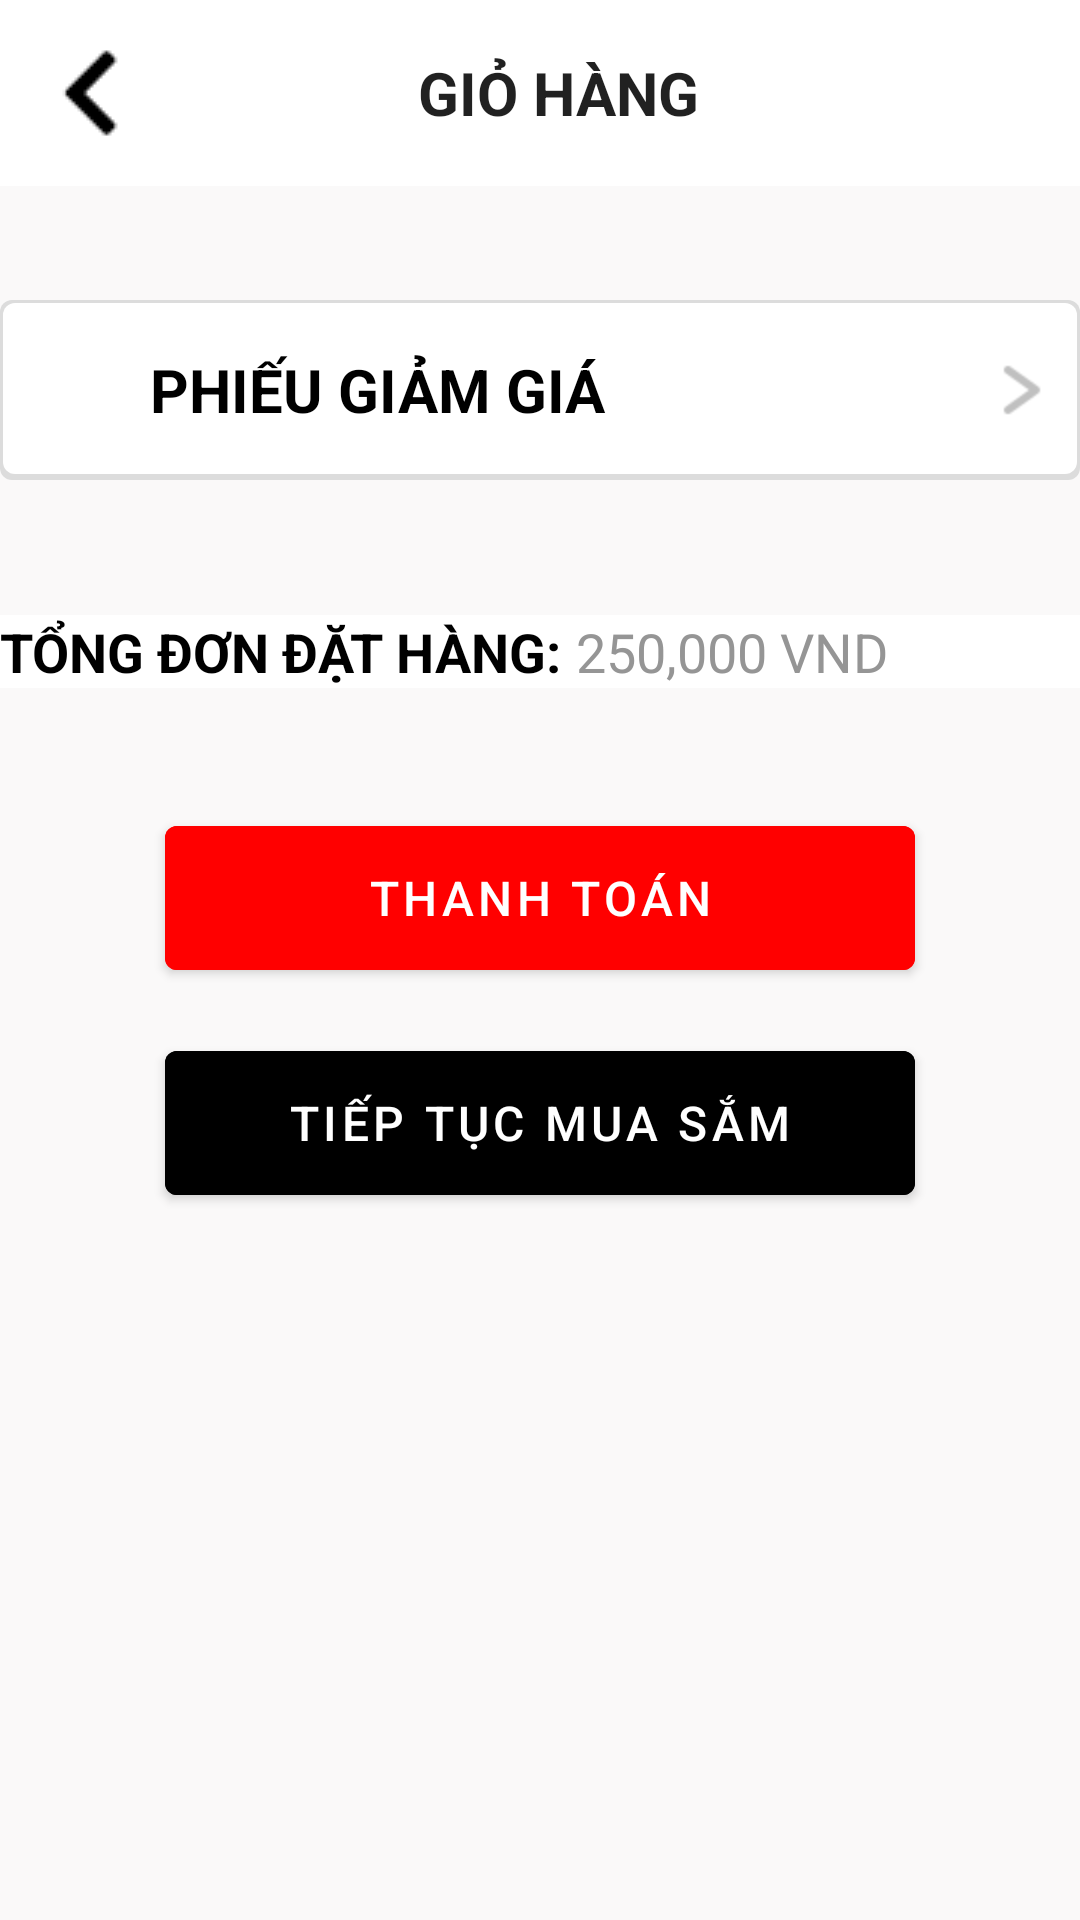

Icons on this 1080 x 1920 Android screen, each with its box as box=[x1, y1, x2, y2]:
angle right: box=[1004, 366, 1040, 414]
Comeback to main store: box=[64, 50, 118, 136]
